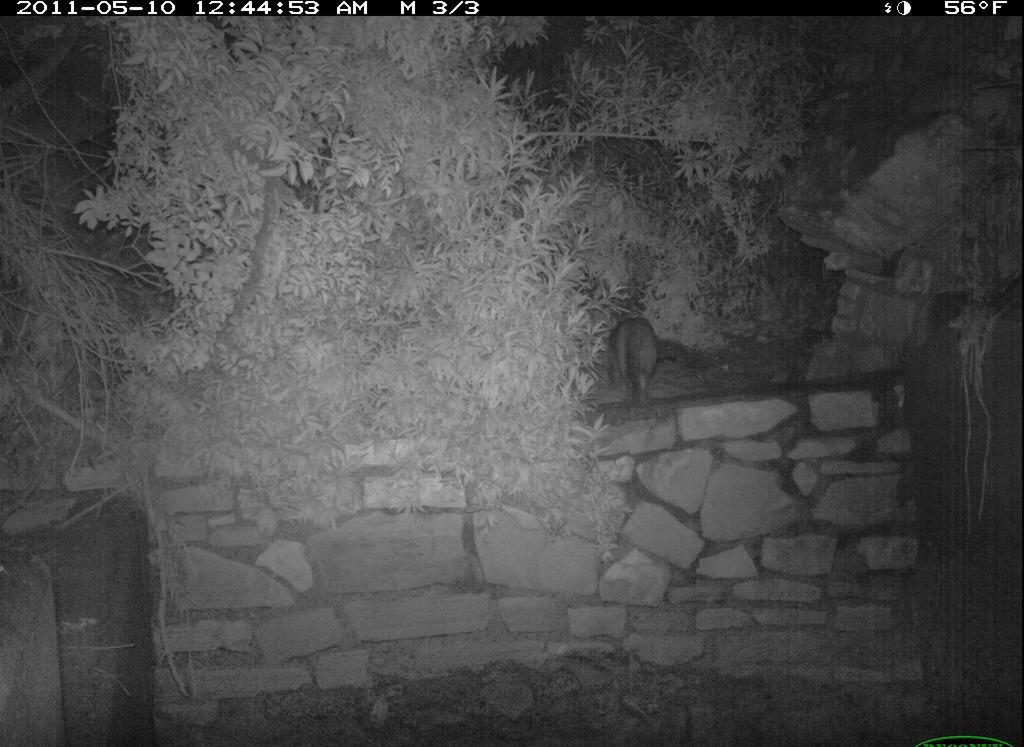cat: (605, 312, 690, 418)
